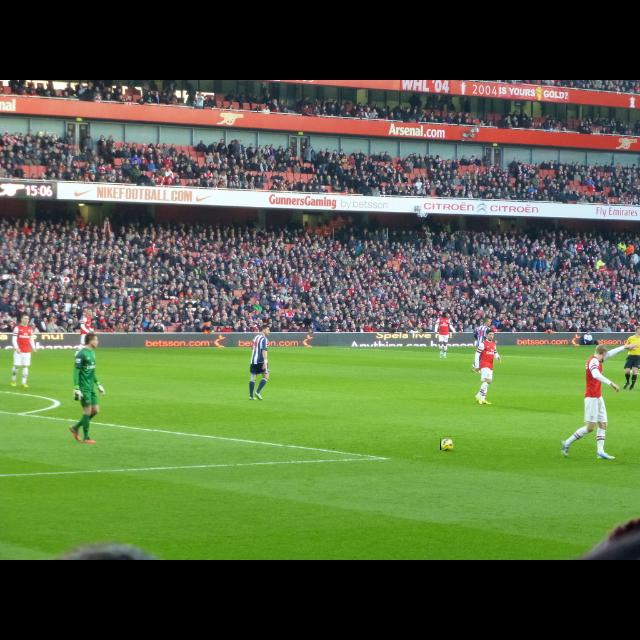Football: (440, 436, 452, 450)
